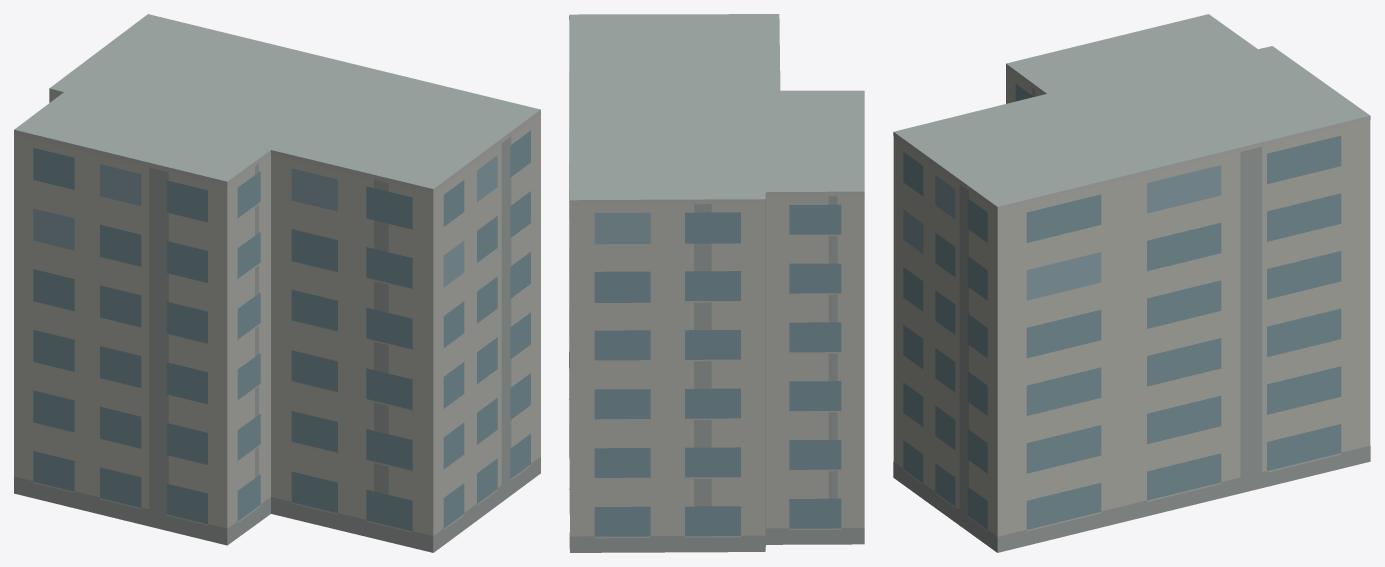
The model's file is survey-upis-32868560.glb.
3 views of the same model, side by side, from view 1: azimuth 30°, elevation 25°; view 2: azimuth 150°, elevation 25°; view 3: azimuth 270°, elevation 25° (orthographic). The views are drawn at different scales.
Parts seen in each view (by area): view 1: survey-upis-32868560.tmp; view 2: survey-upis-32868560.tmp; view 3: survey-upis-32868560.tmp.
Boxes of the visible parts, x1,y1,x2,y2 form: survey-upis-32868560.tmp: (14, 14, 540, 552); survey-upis-32868560.tmp: (569, 14, 864, 552); survey-upis-32868560.tmp: (893, 14, 1370, 552).
Bounding box in the file's own units: 21.95 × 18.35 × 22.93.
